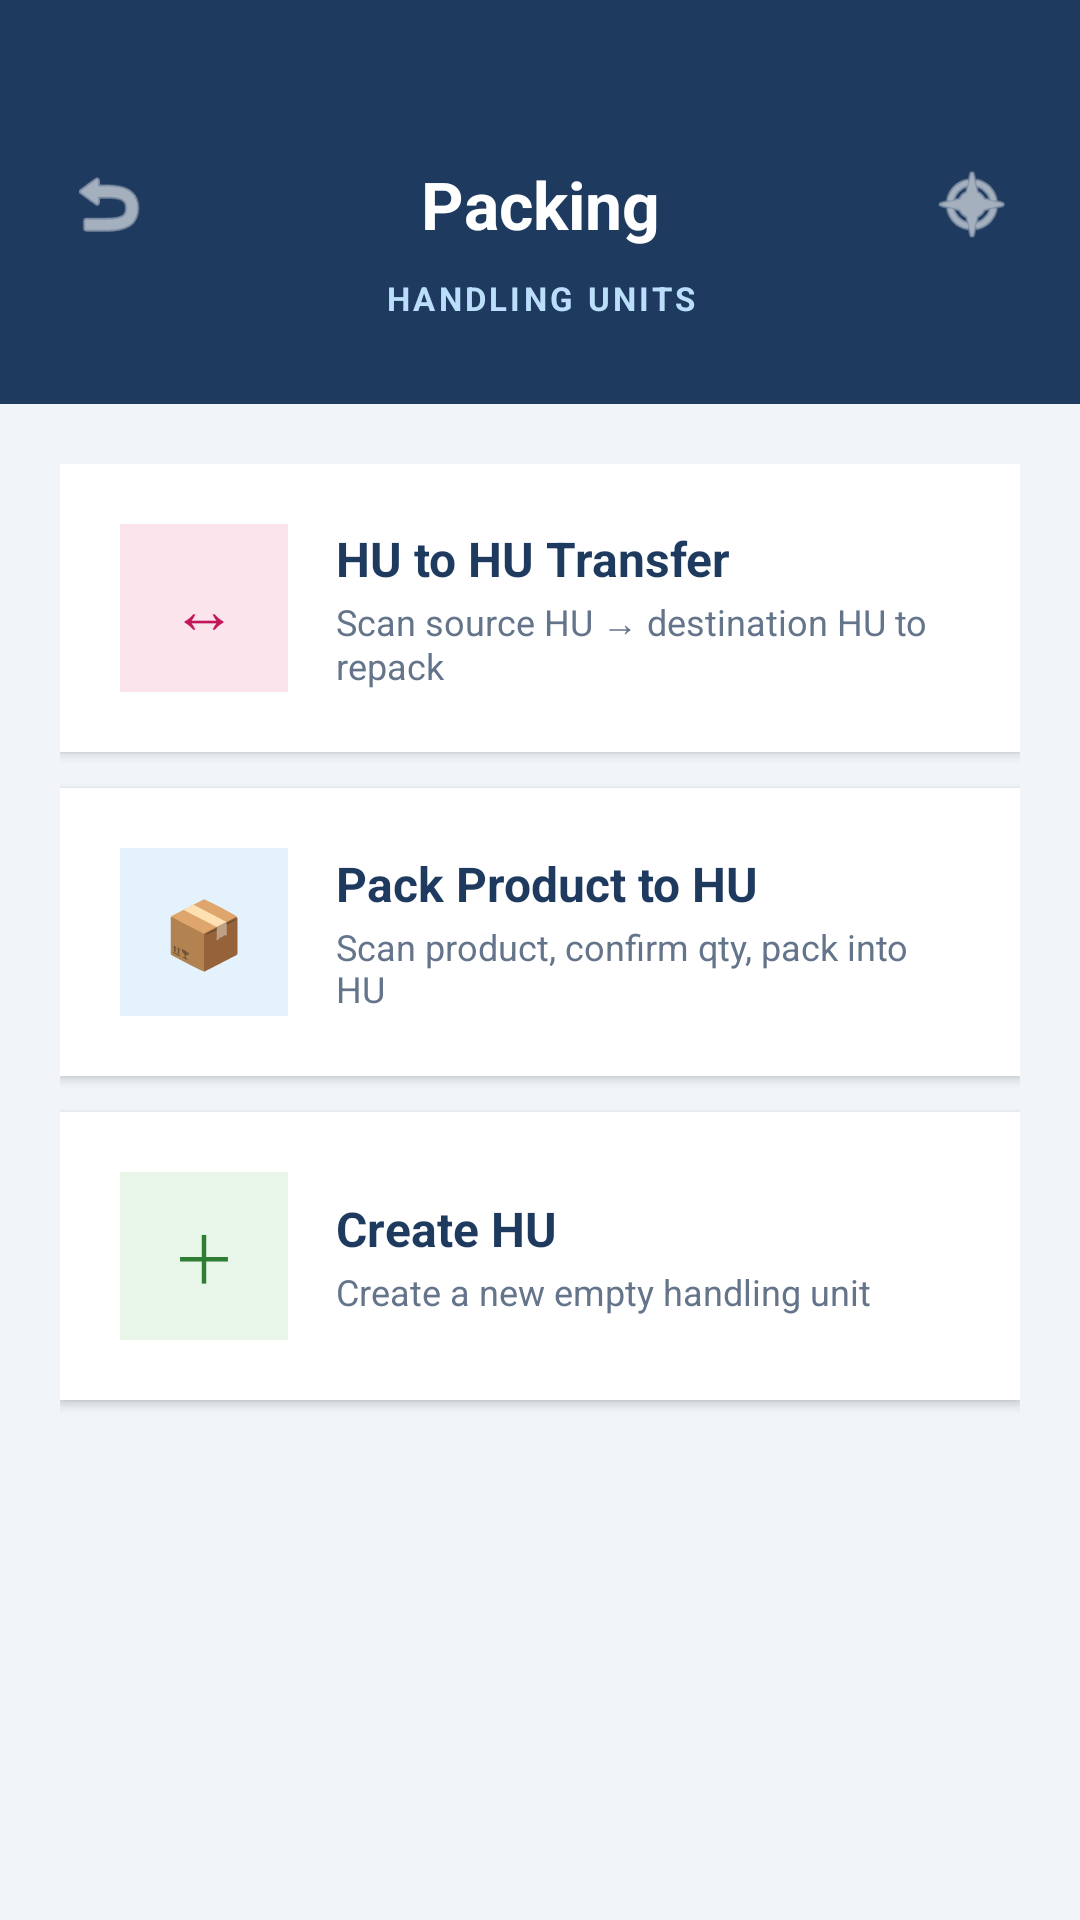

Locate icon controls on the screen. Image size 1080 × 1920, boxes as (x1, y1, x2, y2).
compass: (939, 171, 1005, 238)
revert: (79, 177, 139, 232)
